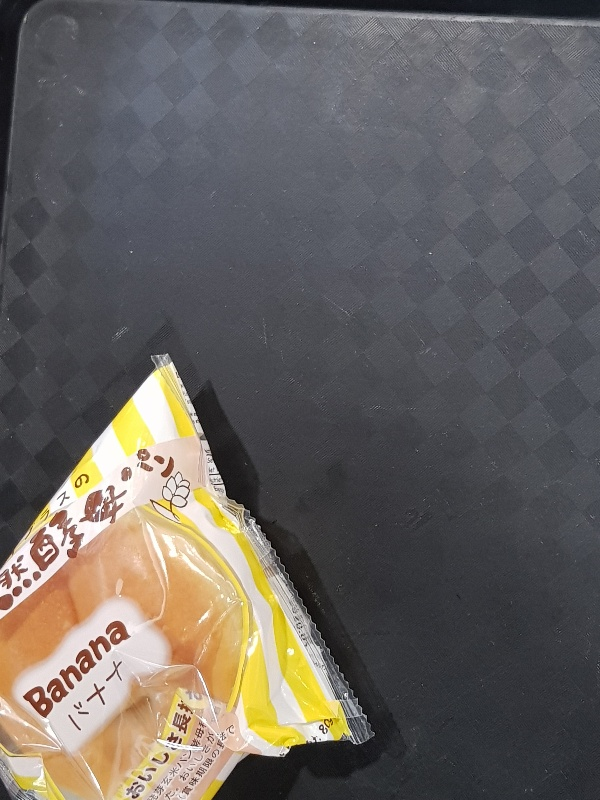Dayplus Banana: (1, 350, 374, 800)
